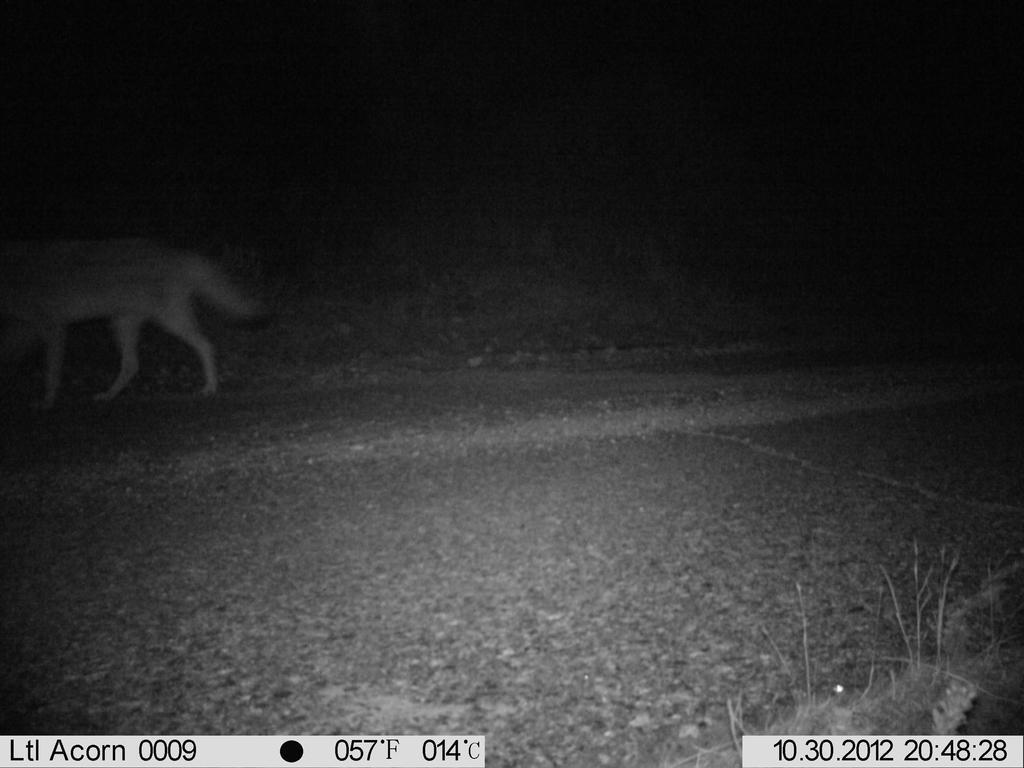coyote: (1, 232, 273, 420)
